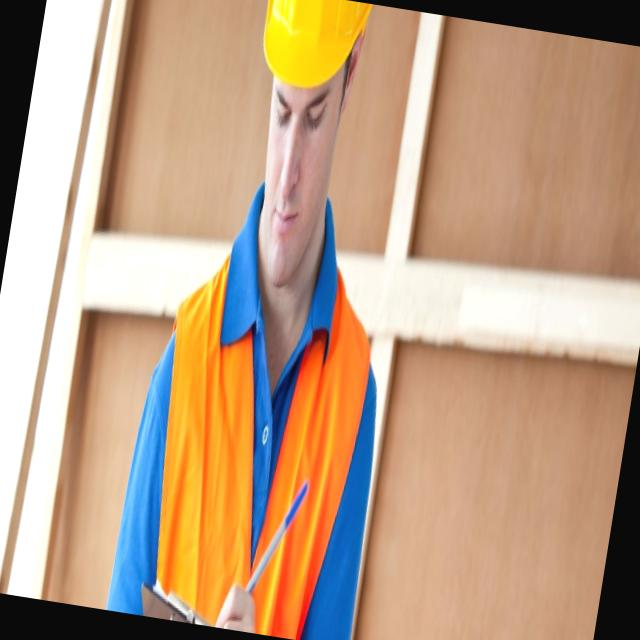helmet: (245, 0, 372, 97)
no-goggles: (247, 64, 356, 169)
vest: (118, 245, 401, 640)
